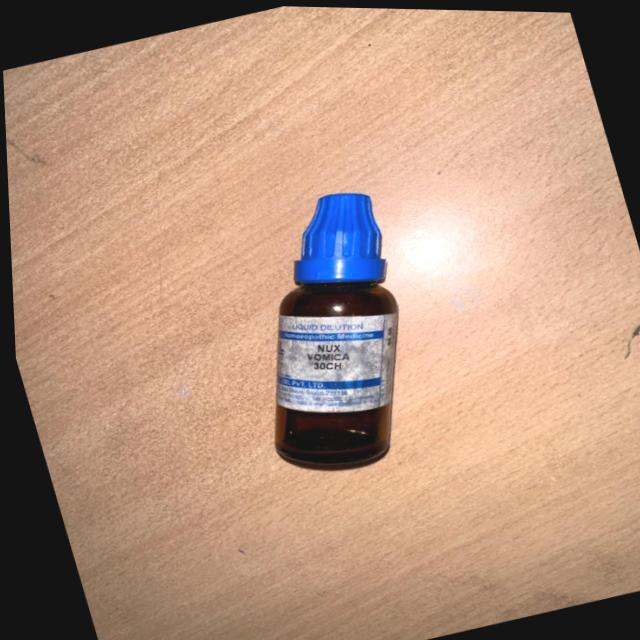medicine: (260, 186, 404, 463)
